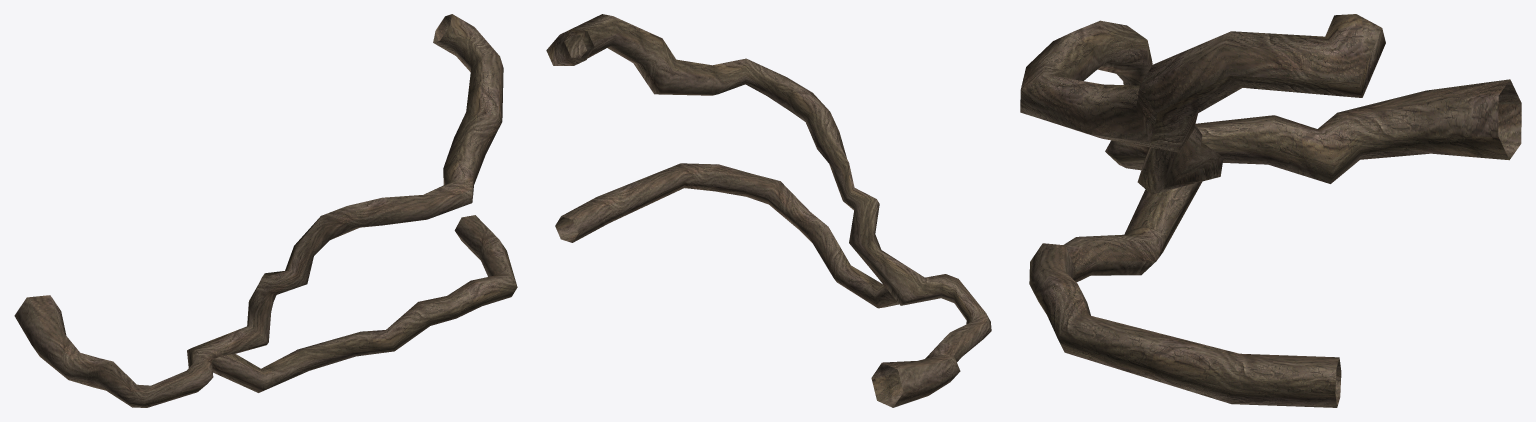
Rendered from s7_fightpve_kushu03.FBX.
The picture shows the model from 3 angles, left to right: view 1: azimuth 30°, elevation 25°; view 2: azimuth 150°, elevation 25°; view 3: azimuth 270°, elevation 25°; orthographic projection. The views are drawn at different scales.
Parts seen in each view (by area): view 1: Shape01; view 2: Shape01; view 3: Shape01.
Boxes of the visible parts, x1=… form: Shape01: x1=14, y1=14, x2=517, y2=407; Shape01: x1=546, y1=14, x2=991, y2=407; Shape01: x1=1020, y1=14, x2=1521, y2=407.
Size of the model in its own units: 1626 by 1010 by 985.
